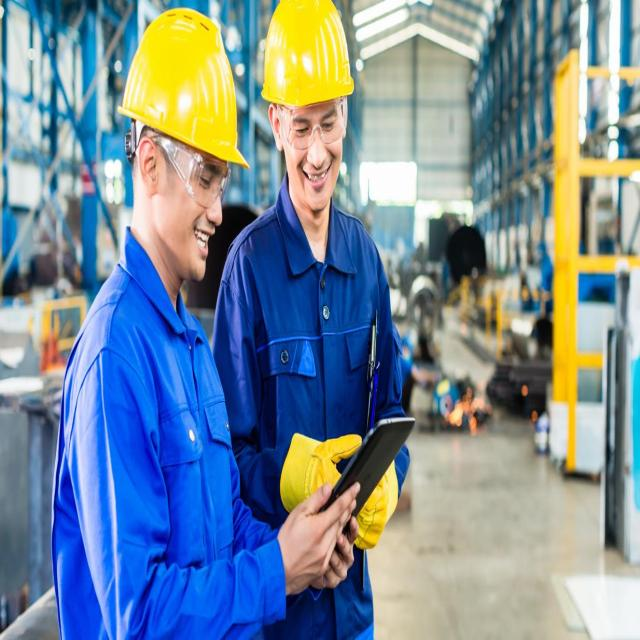Safety-Helmet: (117, 4, 248, 170), (260, 1, 356, 112)
